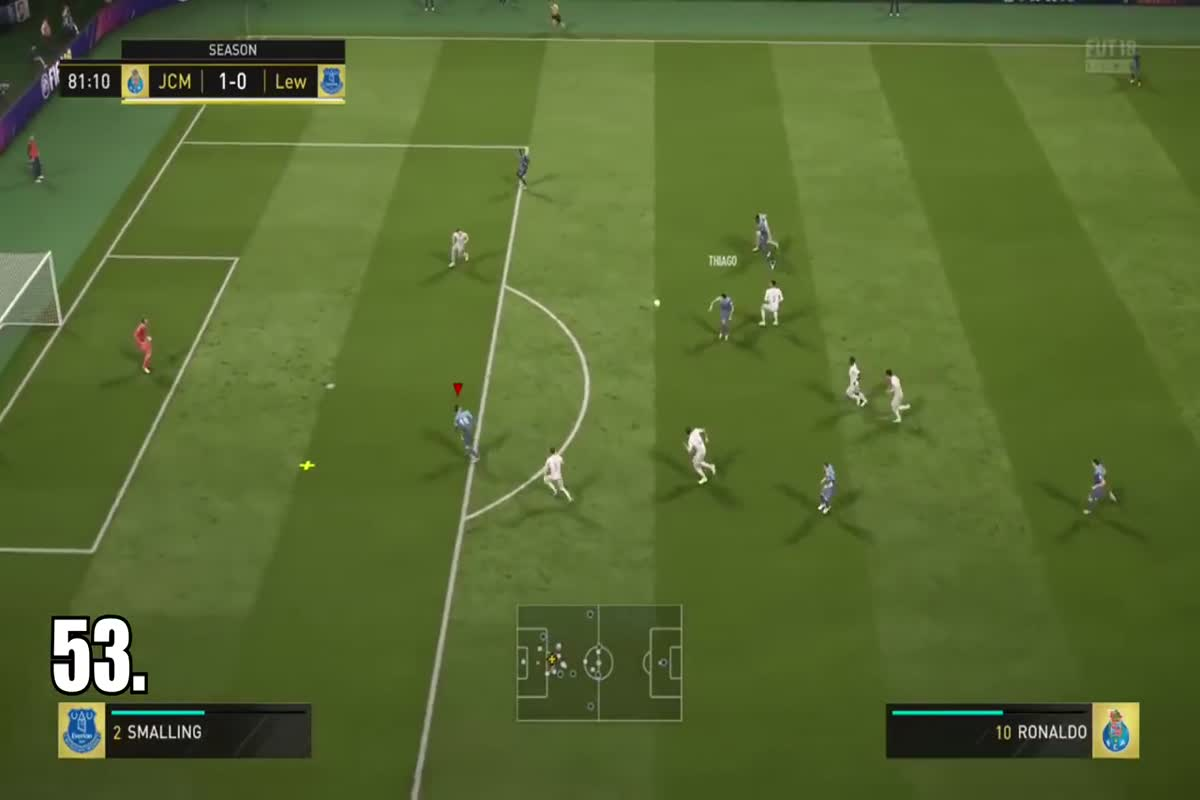ball: (646, 291, 670, 315)
